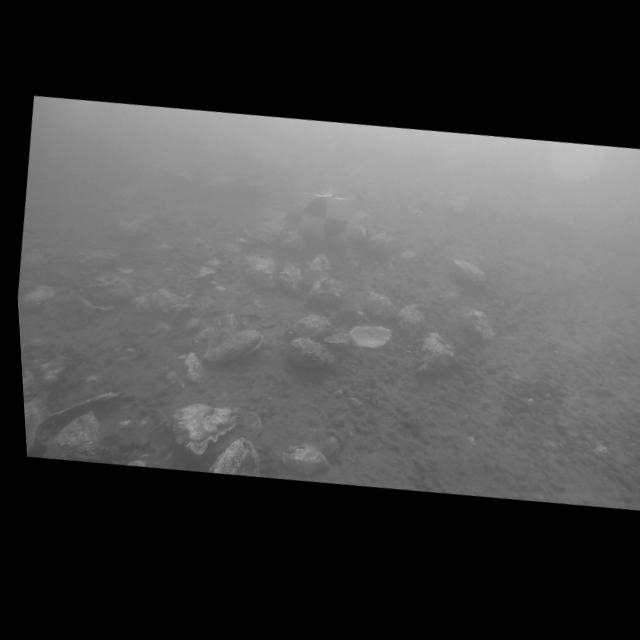Oyster-Closed: (173, 404, 261, 454), (201, 326, 263, 365), (210, 438, 260, 477), (136, 289, 190, 320), (83, 276, 135, 307), (418, 332, 456, 374), (282, 445, 330, 475), (448, 259, 487, 295), (290, 337, 333, 367), (290, 315, 334, 339), (365, 292, 399, 320), (464, 310, 495, 339), (247, 255, 275, 287), (308, 278, 343, 303), (398, 305, 425, 333), (279, 264, 303, 294), (307, 254, 332, 282)
Oyster-Indeterminate: (52, 411, 109, 464), (192, 311, 241, 358), (24, 392, 50, 453), (77, 250, 120, 269)
Oyster-Open: (349, 326, 392, 347)
